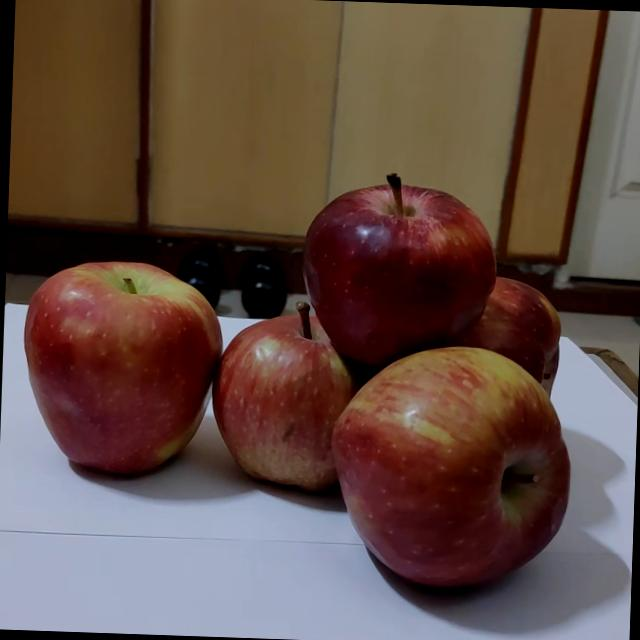apple: (326, 347, 582, 606), (0, 237, 244, 499), (288, 156, 512, 384), (198, 299, 386, 505), (388, 271, 586, 417)
